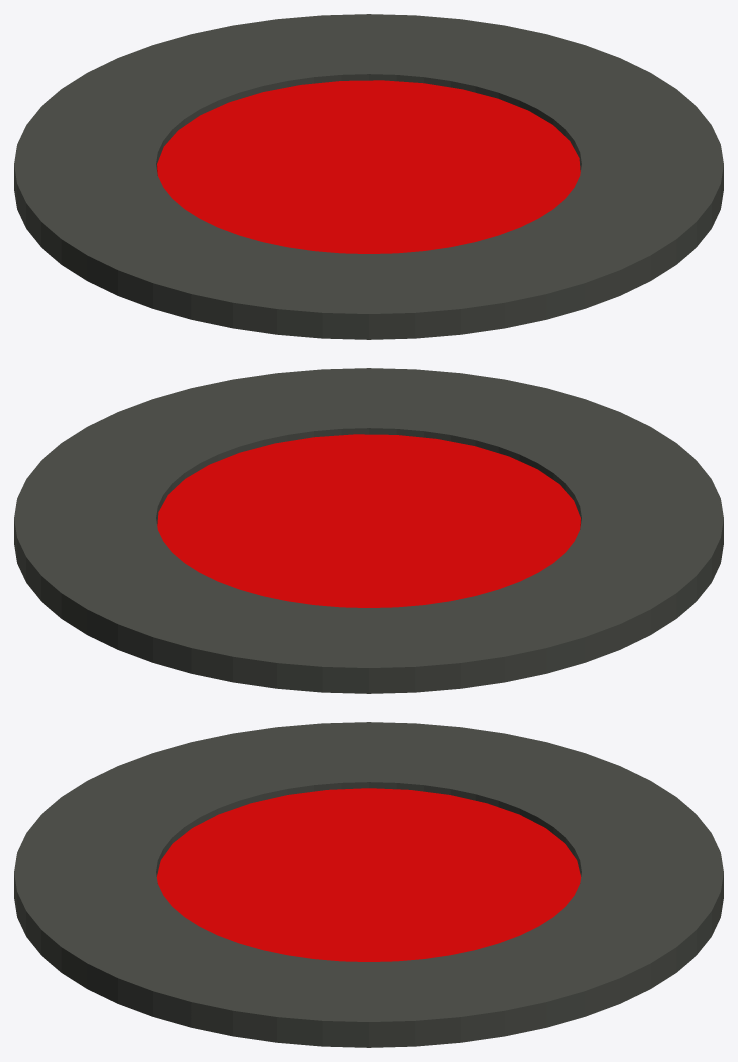
The model's file is TargetRing.fbx.
3 renders of one model, top to bottom at view 1: azimuth 30°, elevation 25°; view 2: azimuth 150°, elevation 25°; view 3: azimuth 270°, elevation 25°, orthographic.
Parts seen in each view (by area): view 1: Ring, Center; view 2: Ring, Center; view 3: Ring, Center.
Part boxes in pixels (x1,y1,x2,y2): Ring: (14,14,723,339); Center: (157,80,580,253); Ring: (14,368,723,693); Center: (157,434,580,607); Ring: (14,722,723,1047); Center: (156,788,581,961).
Bounding box in the file's own units: 250 × 10 × 250.
